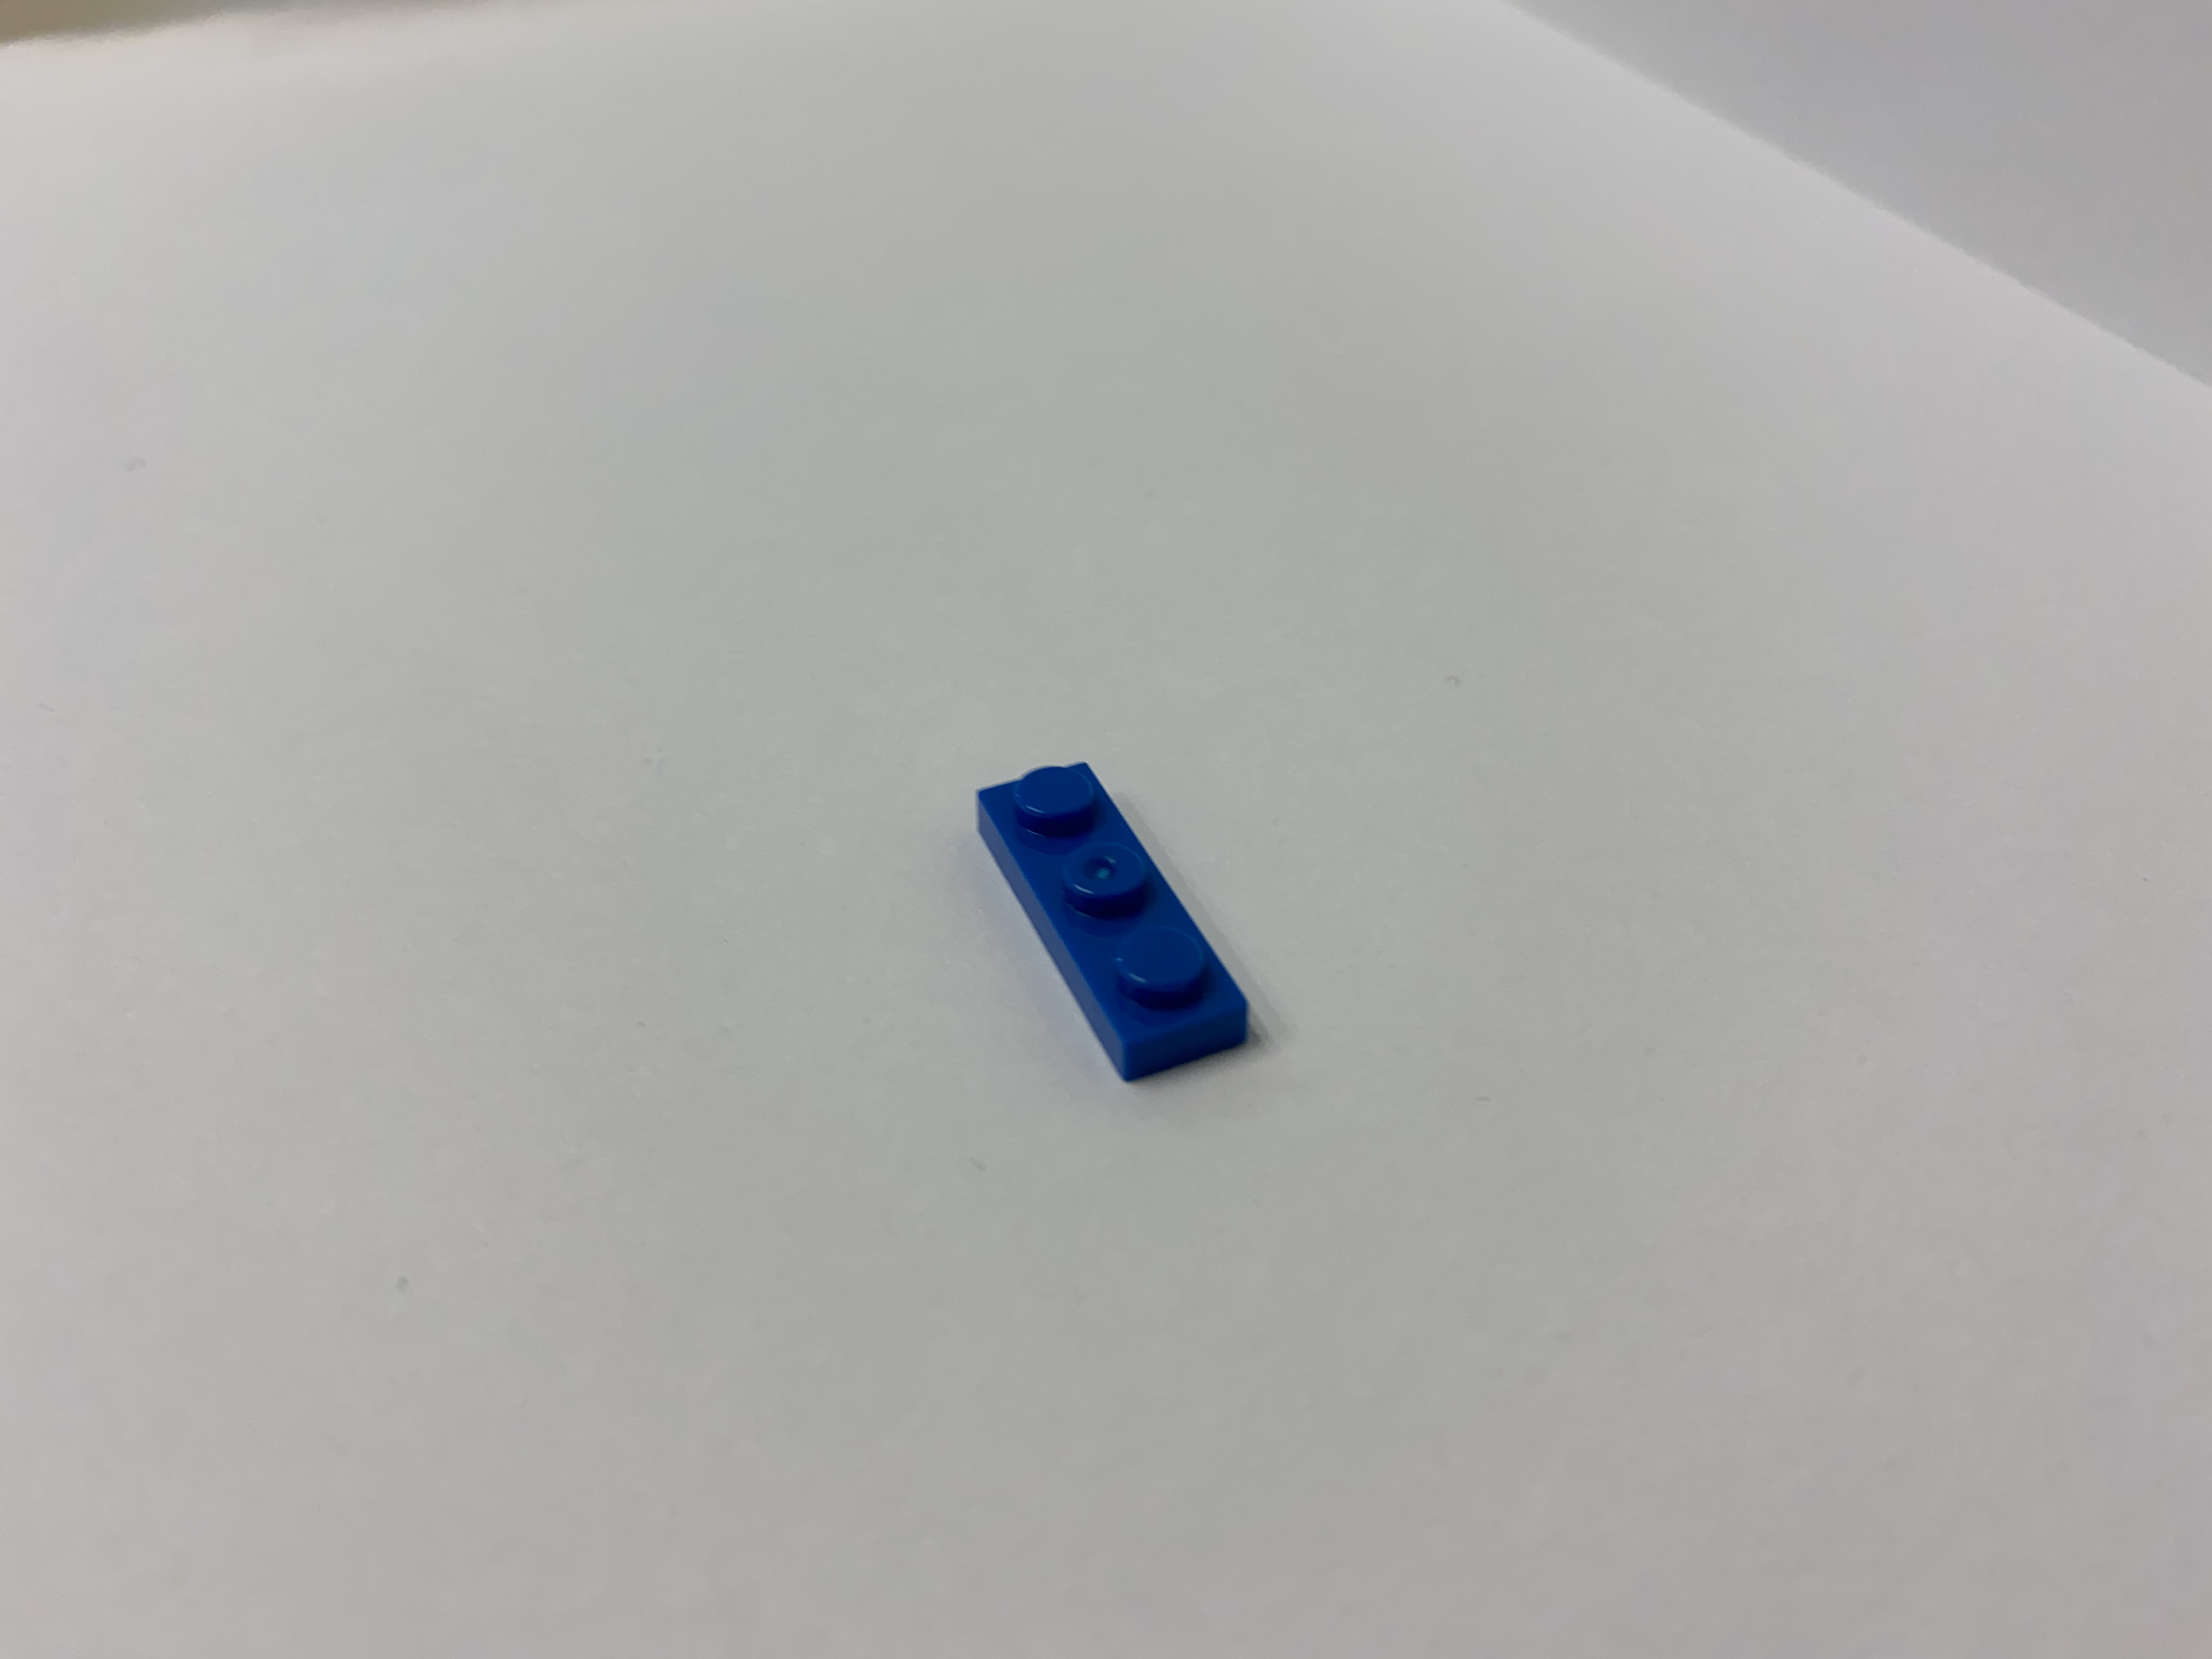car: (916, 701, 1291, 1133)
